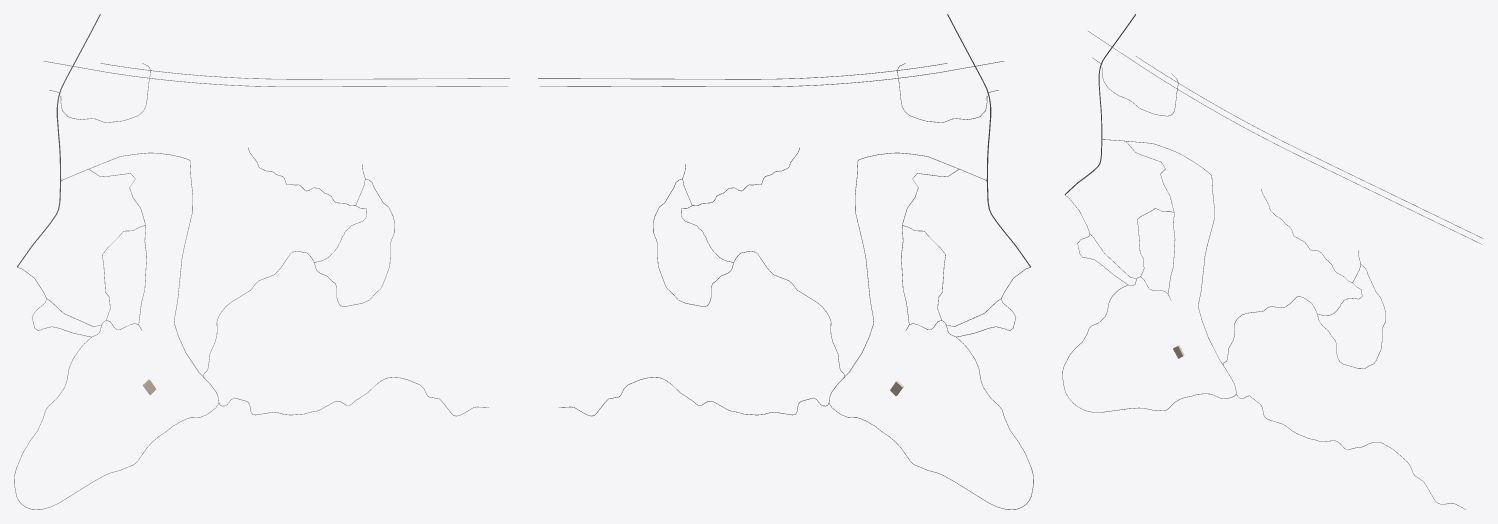
Rendered from historic-palestine-08_24_3503_3182.glb.
The picture shows the model from 3 angles, left to right: view 1: azimuth 30°, elevation 25°; view 2: azimuth 150°, elevation 25°; view 3: azimuth 330°, elevation 25°; orthographic projection. The views are drawn at different scales.
Visible parts, largest first — view 1: Road; view 2: Road; view 3: Road.
Boxes of the visible parts, x1,y1,x2,y2 form: Road: (174,160,488,416); Road: (559,160,873,416); Road: (1198,176,1465,509).
Bounding box in the file's own units: 1415 × 1334 × 8.7.
